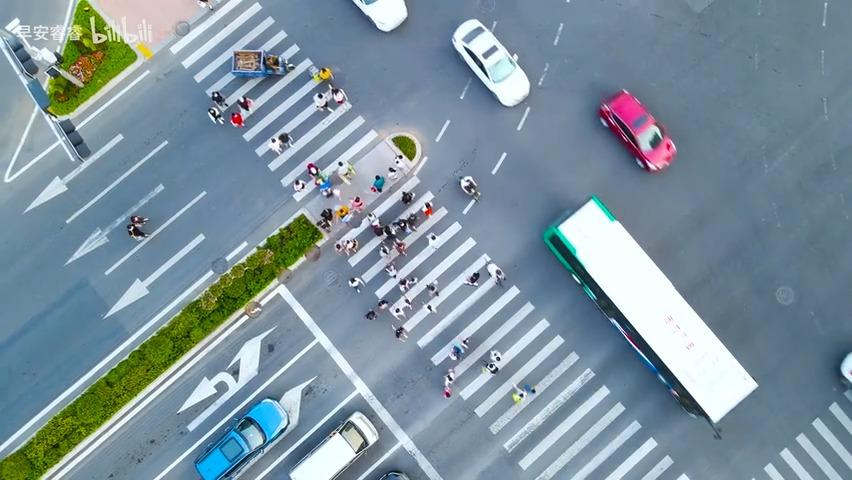Civilian: (310, 205, 335, 236), (264, 54, 293, 74), (485, 261, 506, 287), (127, 215, 149, 239), (460, 176, 480, 202), (399, 215, 423, 236), (511, 382, 536, 402), (448, 337, 469, 360), (334, 237, 359, 256), (392, 294, 412, 317), (330, 86, 349, 110), (369, 222, 397, 237), (313, 92, 333, 112), (363, 207, 382, 228), (442, 367, 455, 397), (336, 161, 352, 185), (373, 240, 390, 262), (320, 180, 338, 200), (390, 323, 408, 341), (347, 276, 366, 293), (207, 106, 224, 125), (487, 349, 501, 372), (313, 67, 334, 82), (394, 154, 408, 176), (236, 95, 253, 112), (211, 90, 228, 107), (278, 132, 294, 149), (267, 137, 282, 155), (370, 174, 384, 193), (463, 271, 479, 287), (425, 279, 439, 297), (481, 360, 499, 374), (230, 111, 245, 127), (349, 196, 363, 213), (384, 260, 397, 278), (426, 232, 439, 250), (306, 162, 319, 179), (395, 245, 410, 259), (345, 160, 356, 178), (401, 190, 415, 204), (422, 201, 433, 218), (292, 179, 305, 192), (364, 308, 378, 320), (469, 187, 480, 202), (197, 0, 213, 10), (489, 349, 501, 362), (425, 303, 437, 314), (387, 166, 397, 179), (377, 299, 388, 309)
